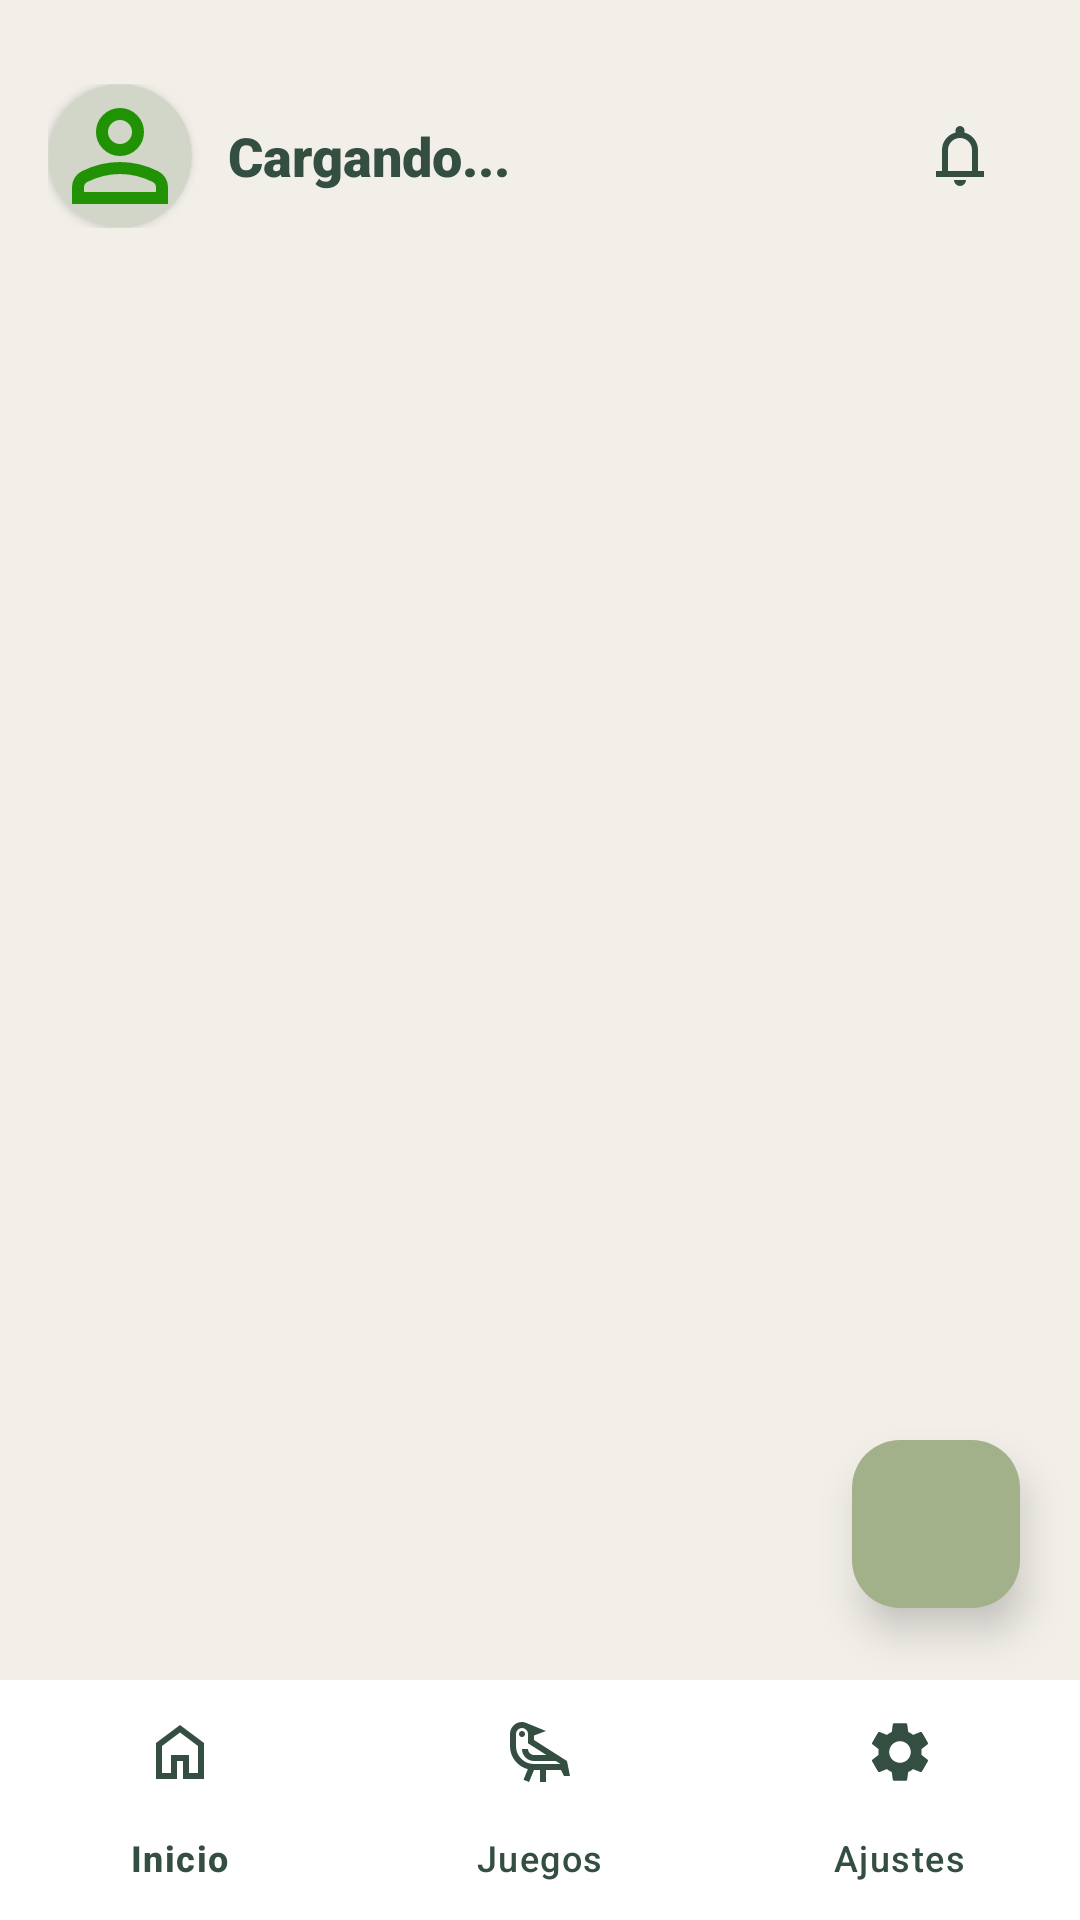

Screen size 1080px×1920px. Icon name, then its center in pixels as (x=x, y=y):
notifications: (x=960, y=156)
person: (x=120, y=156)
